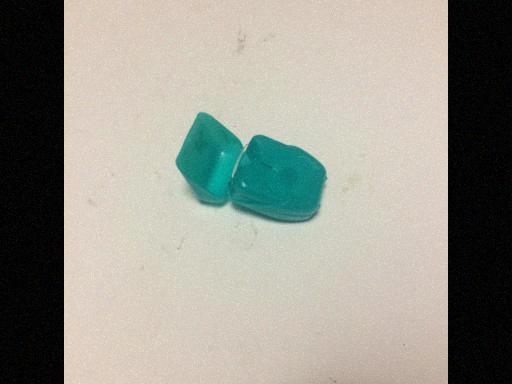trash: (176, 111, 326, 224)
